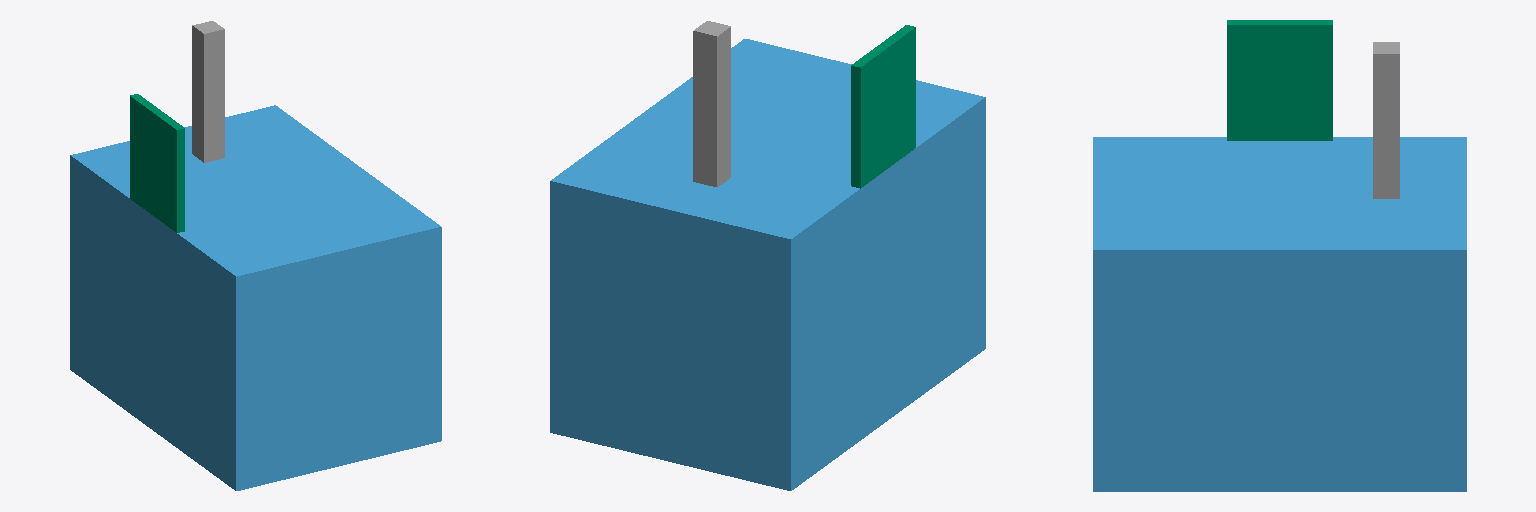
The robot description file, URDF, robot "baugruppe_asm":
<robot name="baugruppe_asm">

  <link name="world"/>
  <link name="baseBox">
    <visual>
      <geometry>
        <box size ="0.5 0.7 0.5"></box>
      </geometry>
      <origin xyz="0 0 0"/>
    </visual>
  </link>
  <joint name = "world_to_baseBox" type="fixed">
    <parent link="world"/>
    <child link="baseBox"/>
    <origin xyz="0 0 0.25"/>
    <axis xyz = "1 0 0"/>
  </joint>



  <link name="baseStand">
    <visual>
      <geometry>
        <box size ="0.02 0.2 0.24"></box>
      </geometry>
      <origin xyz="0 0 0"/>
    </visual>
  </link>
  <joint name = "baseBox_to_baseStand" type="fixed">
    <parent link="baseBox"/>
    <child link="baseStand"/>
    <origin xyz="-0.24 0 0.37"/>
    <axis xyz = "1 0 0"/>
  </joint>




  <link
    name="base_link">
    <inertial>
      <origin
              xyz="-0.0129142860655273 0.025 8.58970379741229E-19"
              rpy="0 0 0" />
      <mass
        value="0.22068583470577" />
      <inertia
        ixx="0.000106880528372501"
        ixy="4.82532700777947E-21"
        ixz="-3.00066856808323E-21"
        iyy="0.000165002910330844"
        iyz="1.55289082629429E-21"
        izz="0.000150074813085748" />
    </inertial>
    <visual>
      <origin
        xyz="0 0 0"
        rpy="0 0 0" />
      <geometry>
        <mesh
          filename="package://baugruppe_asm/meshes/base_link.STL" />
      </geometry>
      <material name="">
        <color
          rgba="0.792156862745098 0.819607843137255 0.933333333333333 1" />
      </material>
    </visual>
    <collision>
      <origin
        xyz="0 0 0"
        rpy="0 0 0" />
      <geometry>
        <mesh
          filename="package://baugruppe_asm/meshes/base_link.STL" />
      </geometry>
    </collision>
  </link>
  <joint name="baseStand_to_baselink" type="fixed">
    <parent link="baseStand"/>
    <child link="base_link"/>
    <origin xyz="0.06 0 0.06"/>
    <axis xyz = "1 0 0"/>
  </joint>




  <link name="Link1_yellow">
    <inertial>
      <origin
        xyz="0.1 0.025016 6.9389E-18"
        rpy="0 0 0" />
      <mass
        value="0.74176" />
      <inertia
        ixx="0.00036662"
        ixy="-5.2521E-21"
        ixz="-2.4395E-19"
        iyy="0.0040213"
        iyz="-3.253E-20"
        izz="0.0039643" />
    </inertial>
    <visual>
      <origin
        xyz="0 0 0"
        rpy="0 0 0" />
      <geometry>
        <mesh
          filename="package://baugruppe_asm/meshes/Link1_yellow.STL" />
      </geometry>
      <material
        name="">
        <color
          rgba="0.79216 0.81961 0.93333 1" />
      </material>
    </visual>
    <collision>
      <origin
        xyz="0 0 0"
        rpy="0 0 0" />
      <geometry>
        <mesh
          filename="package://baugruppe_asm/meshes/Link1_yellow.STL" />
      </geometry>
    </collision>
  </link>
  <joint
    name="Joint1"
    type="revolute">
    <origin
      xyz="0 0 0"
      rpy="1.5708 0 0" />
    <parent link="base_link" />
    <child link="Link1_yellow" />
    <axis xyz="0 1 0" />
	<limit effort="0" lower="-1.57079" upper="1.57079" velocity="0"/>
  </joint>





  <link
    name="Link2_red">
    <inertial>
      <origin
        xyz="0.084906 0.018396 0"
        rpy="0 0 0" />
      <mass
        value="0.68137" />
      <inertia
        ixx="0.00051754"
        ixy="0.00029292"
        ixz="8.8091E-19"
        iyy="0.002574"
        iyz="-1.3553E-19"
        izz="0.0027309" />
    </inertial>
    <visual>
      <origin
        xyz="0 0 0"
        rpy="0 0 0" />
      <geometry>
        <mesh
          filename="package://baugruppe_asm/meshes/Link2_red.STL" />
      </geometry>
      <material
        name="">
        <color
          rgba="0.79216 0.81961 0.93333 1" />
      </material>
    </visual>
    <collision>
      <origin
        xyz="0 0 0"
        rpy="0 0 0" />
      <geometry>
        <mesh
          filename="package://baugruppe_asm/meshes/Link2_red.STL" />
      </geometry>
    </collision>
  </link>
  <joint name="Joint2" type="revolute">
    <origin
      xyz="0.2 0 0"
      rpy="0 0 0" />
    <parent
      link="Link1_yellow" />
    <child
      link="Link2_red" />
    <axis
      xyz="0 1 0" />
	<limit effort="0" lower="-3.0543" upper="3.0543" velocity="0"/>
  </joint>





  <link
    name="Link3_purple">
    <inertial>
      <origin
        xyz="0.015 -0.0725 0"
        rpy="0 0 0" />
      <mass
        value="0.256" />
      <inertia
        ixx="0.00040267"
        ixy="0.000144"
        ixz="2.7105E-20"
        iyy="0.00021867"
        iyz="-5.421E-20"
        izz="0.00052107" />
    </inertial>
    <visual>
      <origin
        xyz="0 0 0"
        rpy="0 0 0" />
      <geometry>
        <mesh
          filename="package://baugruppe_asm/meshes/Link3_purple.STL" />
      </geometry>
      <material
        name="">
        <color
          rgba="0.79216 0.81961 0.93333 1" />
      </material>
    </visual>
    <collision>
      <origin
        xyz="0 0 0"
        rpy="0 0 0" />
      <geometry>
        <mesh
          filename="package://baugruppe_asm/meshes/Link3_purple.STL" />
      </geometry>
    </collision>
  </link>
  <joint
    name="Joint3"
    type="prismatic">
    <origin
      xyz="0.15 -0.02 0"
      rpy="0 -5.5511E-17 0" />
    <parent
      link="Link2_red" />
    <child
      link="Link3_purple" />
    <axis
      xyz="0 1 0" />
	<limit effort="0" lower="-0.03" upper="0.03" velocity="0"/>
  </joint>



  <link name="obstacle">
    <visual>
    <geometry>
      <box size ="0.05 0.05 0.3"></box>
    </geometry>
    <origin xyz="0 0 0"/>
  </visual>
    <collision>
      <geometry>
        <box size ="0.05 0.05 0.3"></box>
      </geometry>
      <origin xyz="0 0 0"/>
    </collision>
  </link>
  <joint name="baseBox_to_obstacle" type="fixed">
    <parent link="baseBox"/>
    <child link="obstacle"/>
    <origin xyz="0 0.2 0.4"/>
    <axis xyz = "1 0 0"/>

  </joint>



</robot>

--- Render facts (derived) ---
Views: 3 orthographic renders of the robot side by side, from view 1: azimuth 30°, elevation 25°; view 2: azimuth 150°, elevation 25°; view 3: azimuth 270°, elevation 25°.
Model baugruppe_asm with 8 links and 7 joints (2 revolute, 1 prismatic, 4 fixed), rooted at world, posed all joints at 0.
Visible links, largest first — view 1: baseBox, baseStand, obstacle; view 2: baseBox, baseStand, obstacle; view 3: baseBox, baseStand, obstacle.
Link boxes in pixels (x1,y1,x2,y2): baseBox: [70, 105, 441, 490]; baseStand: [130, 94, 184, 232]; obstacle: [192, 21, 224, 162]; baseBox: [550, 39, 985, 490]; baseStand: [851, 25, 915, 188]; obstacle: [693, 21, 730, 187]; baseBox: [1093, 137, 1466, 491]; baseStand: [1227, 20, 1332, 140]; obstacle: [1373, 42, 1399, 198].
Bounding box of the posed robot: 0.5 × 0.7 × 0.8 m (x, y, z).
Meshes: 4 distinct files referenced, 0 mesh visuals loaded (none loaded); not drawn: 4 (reference not matched to a file when rendering).